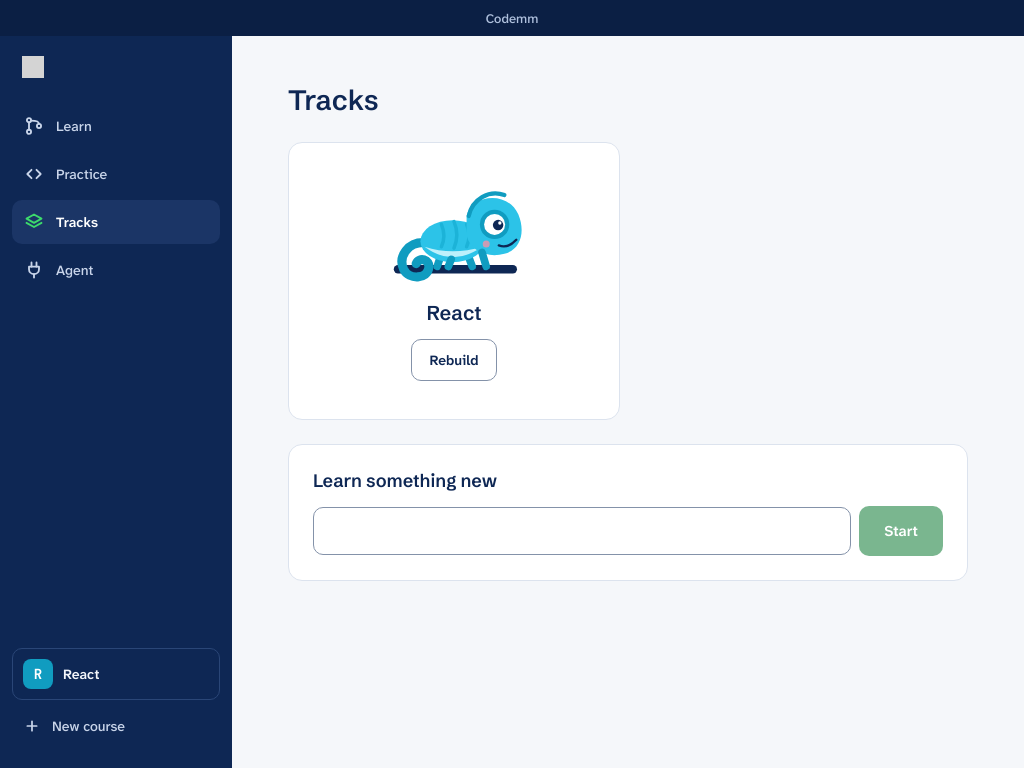
Test case: tracks › says when a rebuild failed because the computer is offline, and sends damaged records to the repair banner
Click the button "Rebuild" at coordinates (454, 360), box [411, 339, 498, 381]
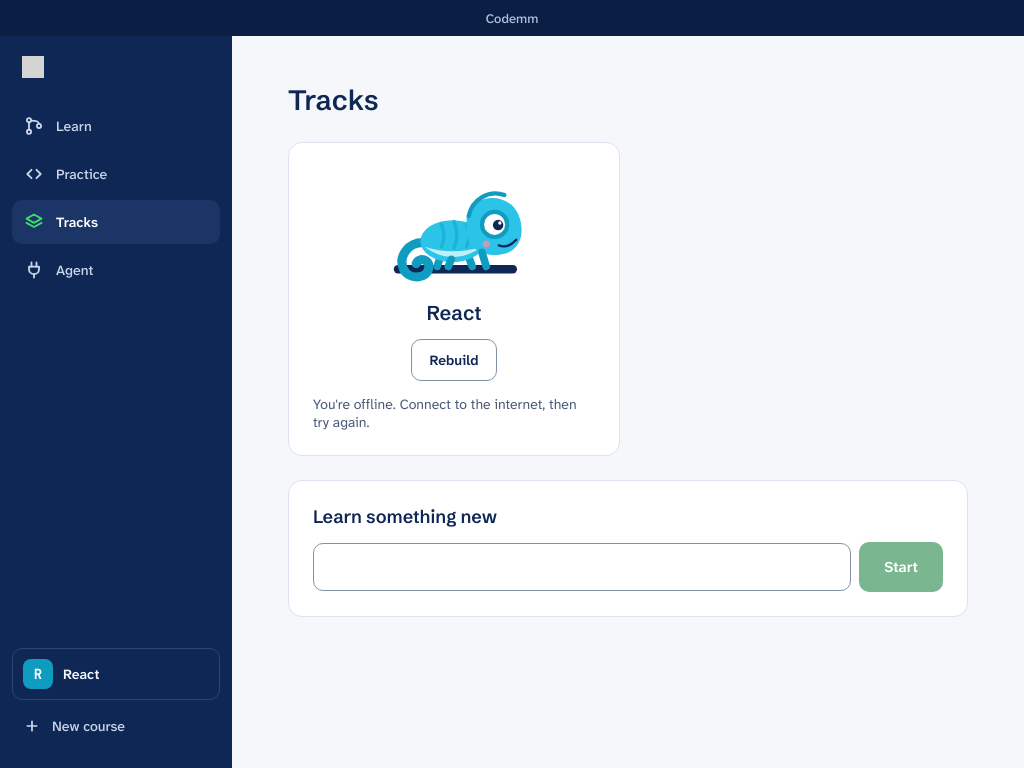
Check: the text "You're offline. Connect to the internet, then try again." is shown, box [313, 395, 595, 431]
Click the button "Rebuild" at coordinates (454, 360), box [411, 339, 498, 381]
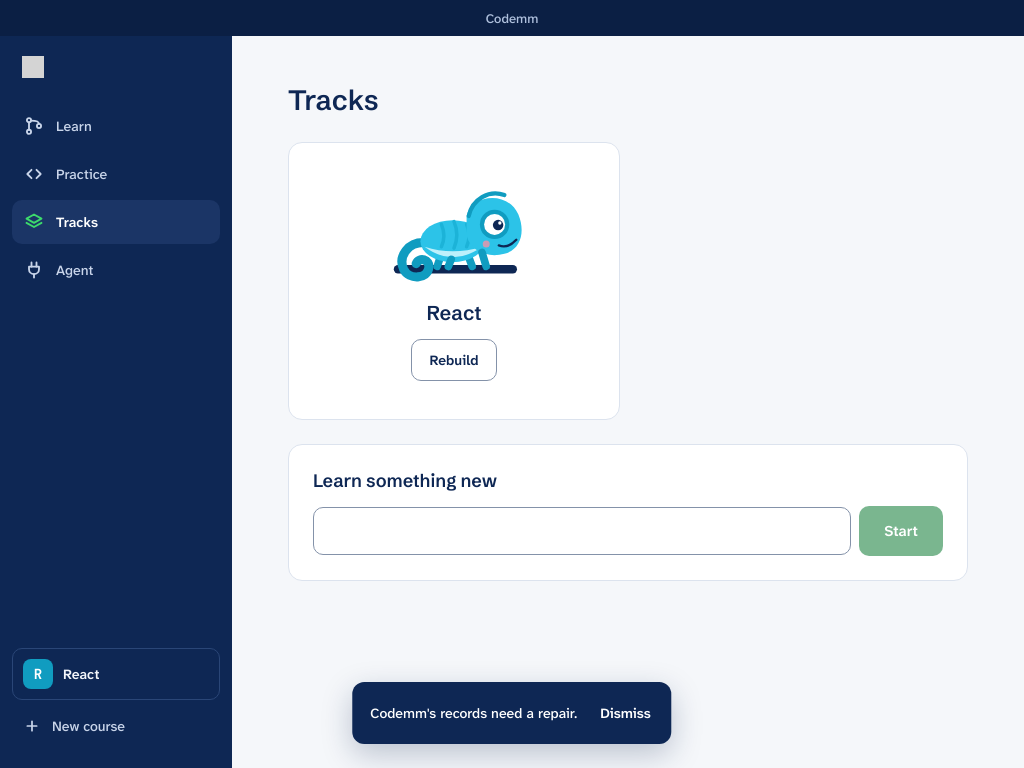
Check: the message shows "Codemm's records need a repair.", box [370, 704, 577, 722]
